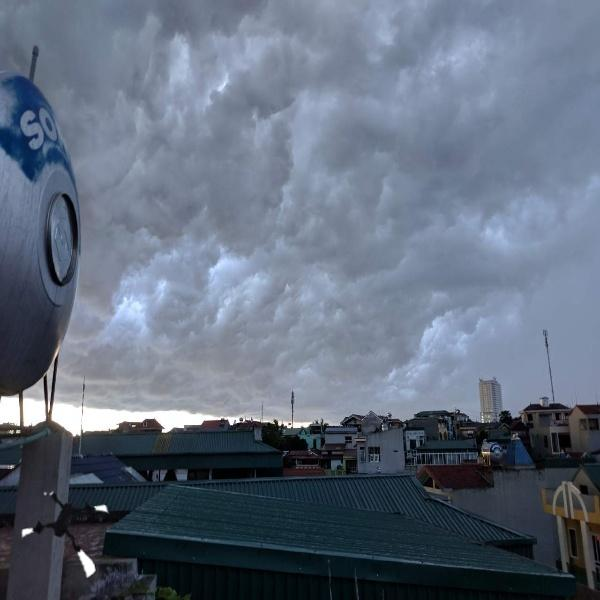drone: (17, 483, 121, 587)
